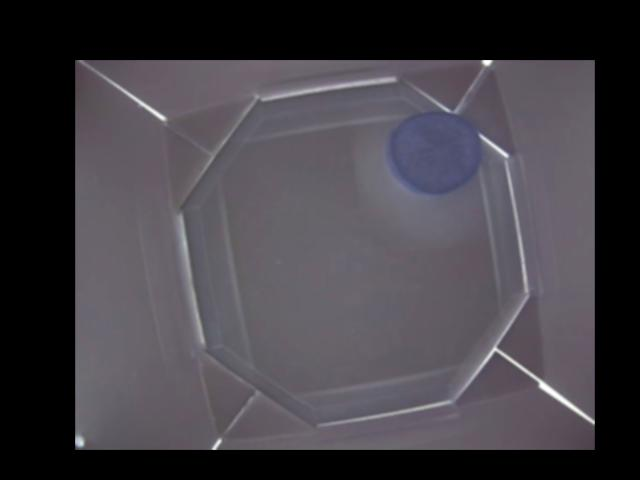Mooli: (386, 110, 483, 195)
